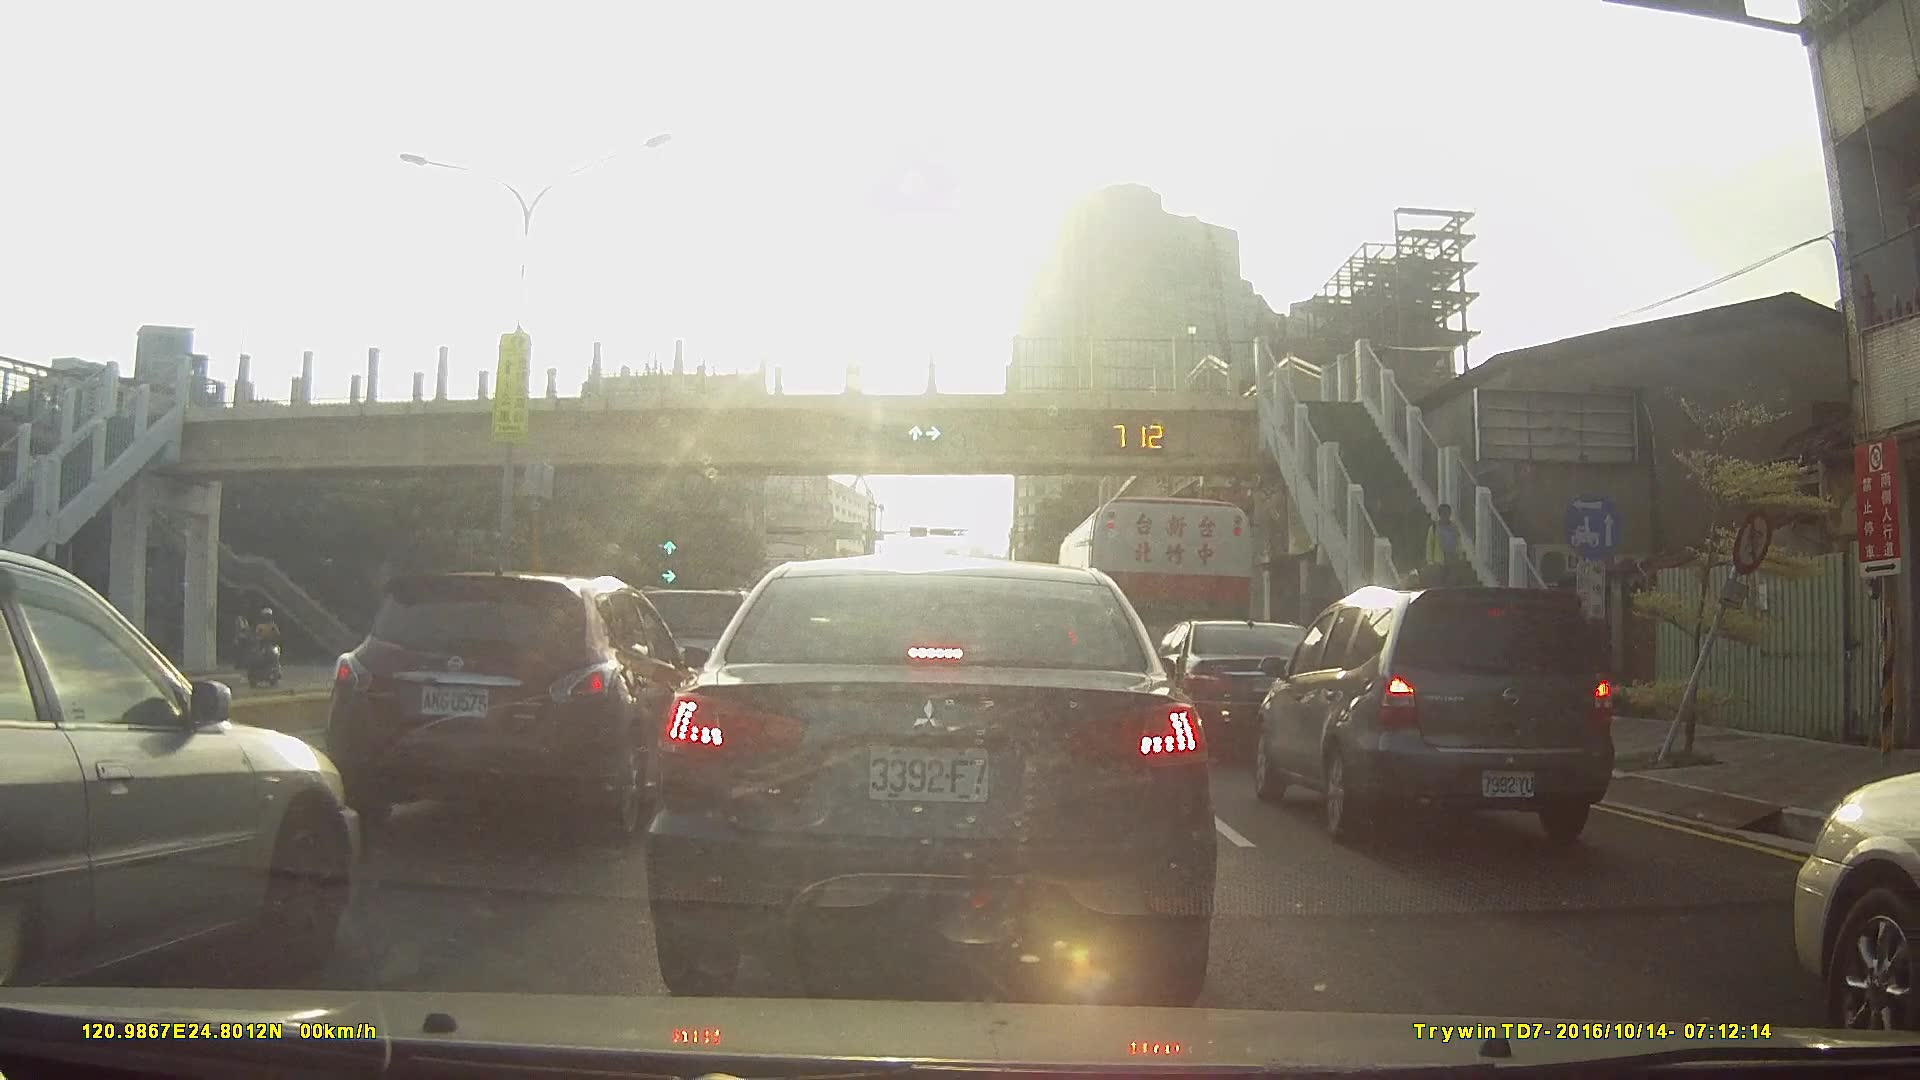pedestrian: (1422, 503, 1475, 607)
rider: (245, 610, 282, 684)
vehicle: (645, 553, 1221, 997), (0, 546, 370, 1011), (325, 566, 705, 836), (1248, 584, 1622, 842), (1143, 620, 1334, 743)
